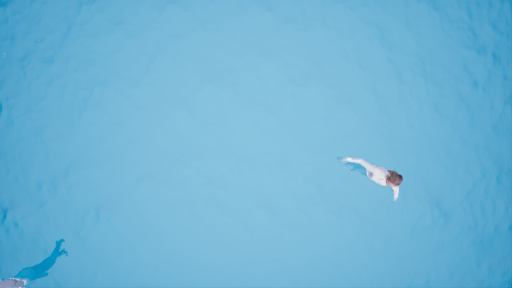person: (338, 154, 414, 206)
